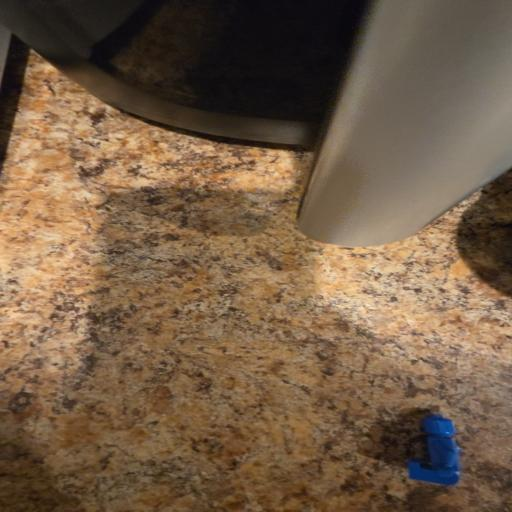Blue: (409, 414, 460, 485)
